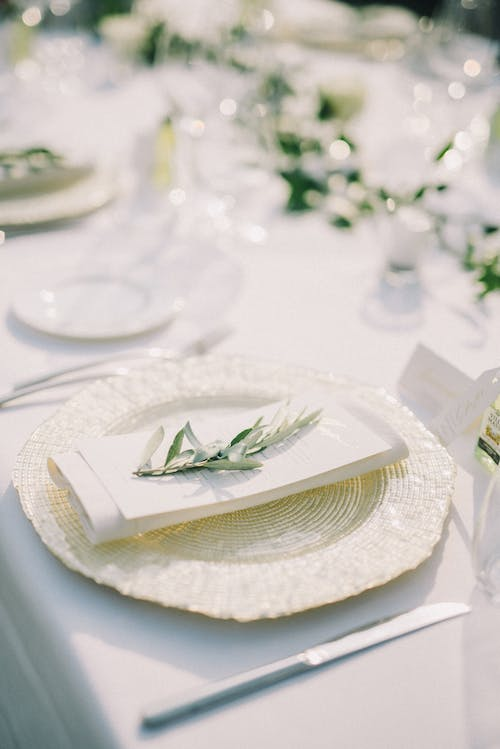knife: (137, 599, 474, 730)
